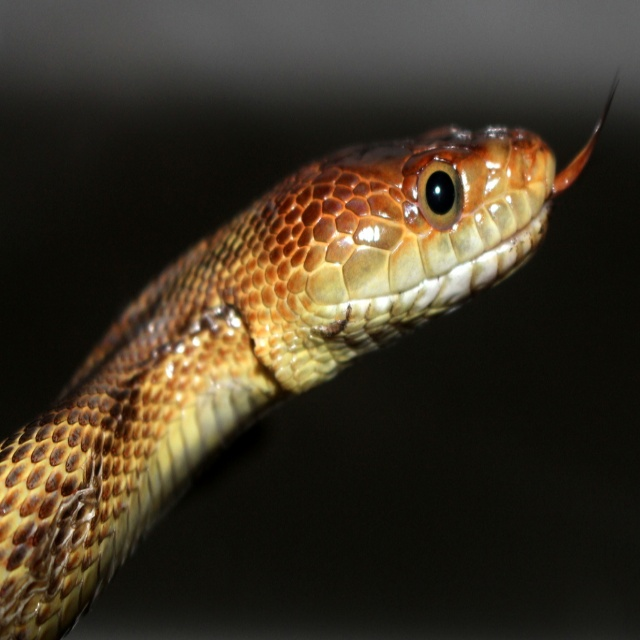Snake: (0, 63, 620, 640)
